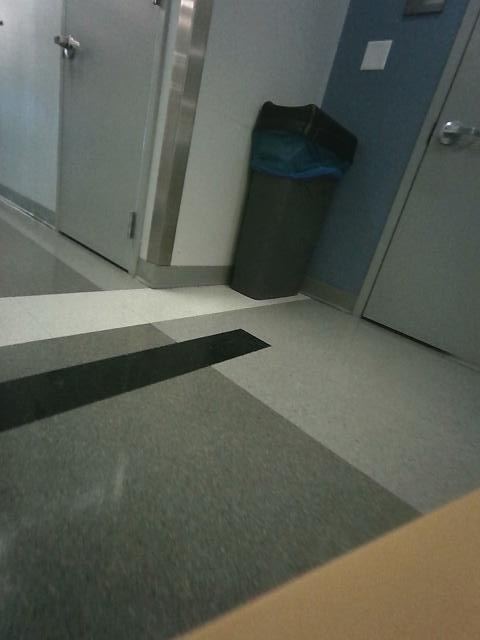ball: (231, 102, 356, 298)
